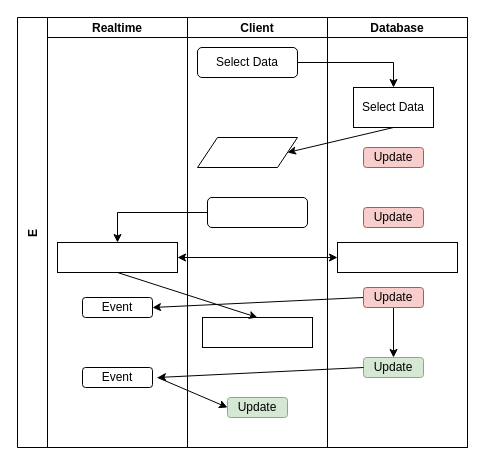
Image size: 485x465. Some labels were removed from this diagram. The centre of each missing label's shape, as x and y in pixels:
"Connected" goes at (x=257, y=332).
"Initial Data" goes at (x=247, y=152).
"Replication On" goes at (x=397, y=257).
"Request Subscription" goes at (x=257, y=212).
"Setup Subscription" goes at (x=117, y=257).
